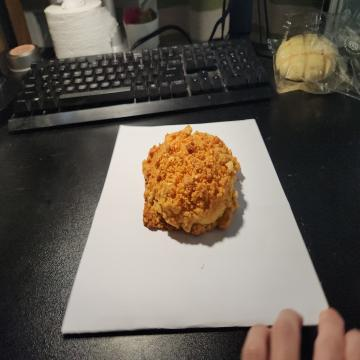soboru_bread: (140, 125, 240, 238)
